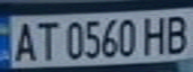0: (118, 16, 142, 57), (63, 17, 84, 60)
5: (81, 17, 103, 60)
6: (100, 16, 121, 58)
A: (9, 18, 39, 63)
B: (160, 11, 193, 55)
H: (139, 12, 172, 55)
T: (30, 18, 60, 62)
